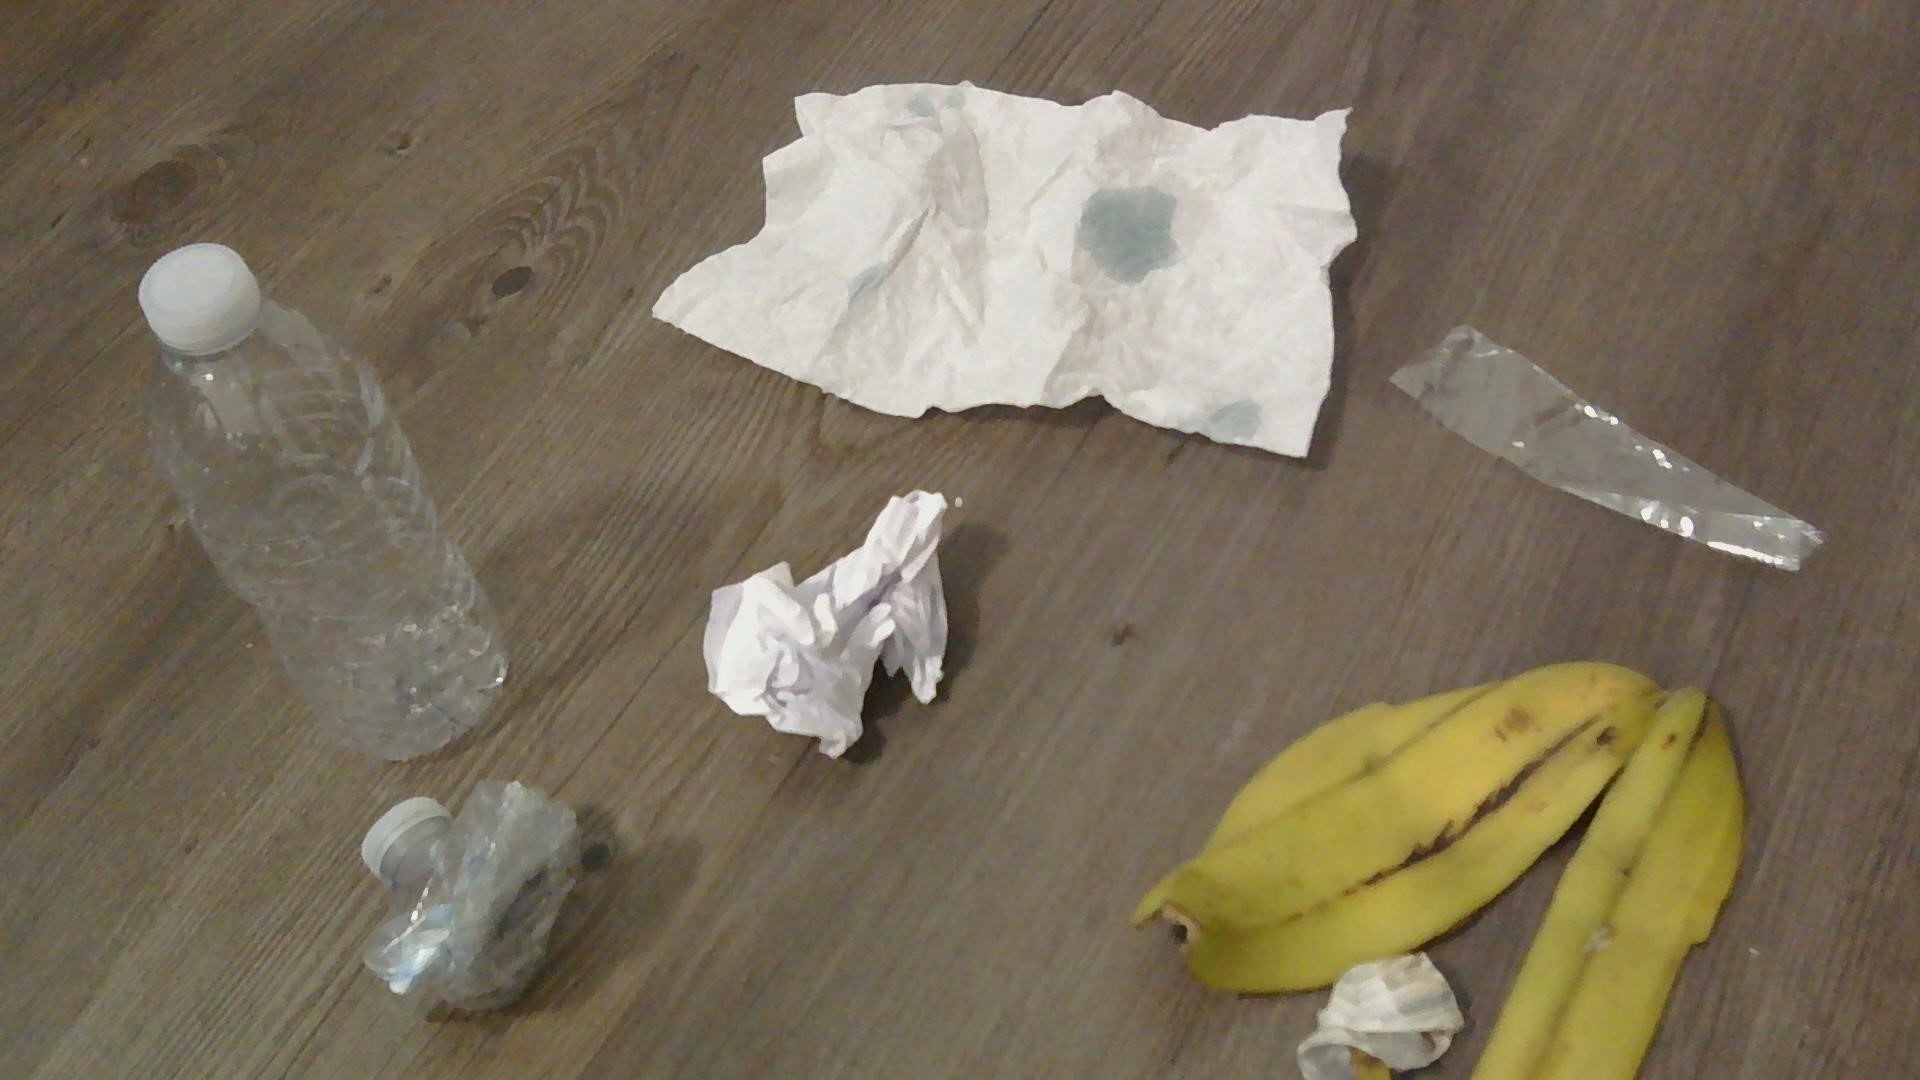banana peel: (1138, 665, 1741, 1077)
bottle: (138, 233, 506, 760)
crushed bottle: (353, 774, 603, 1023)
napkin: (642, 78, 1360, 459)
paper: (1298, 953, 1462, 1079)
paper ball: (702, 487, 948, 760)
plastic piece: (1386, 318, 1826, 567)
